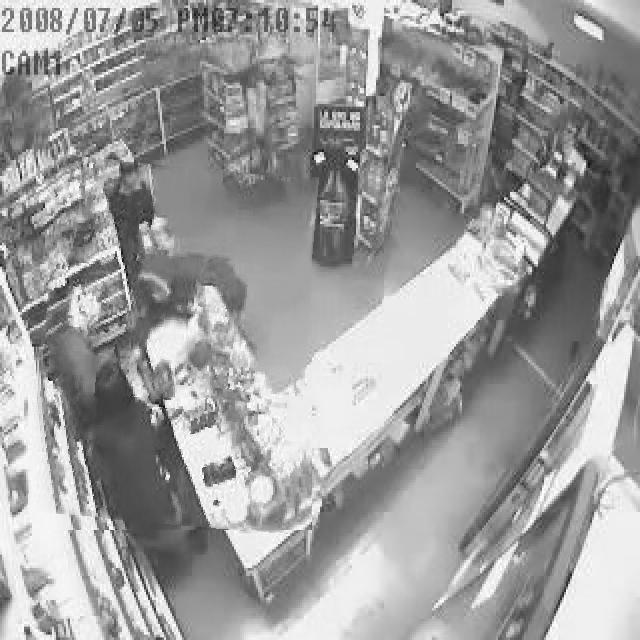Shoplifting: (34, 160, 312, 530)
